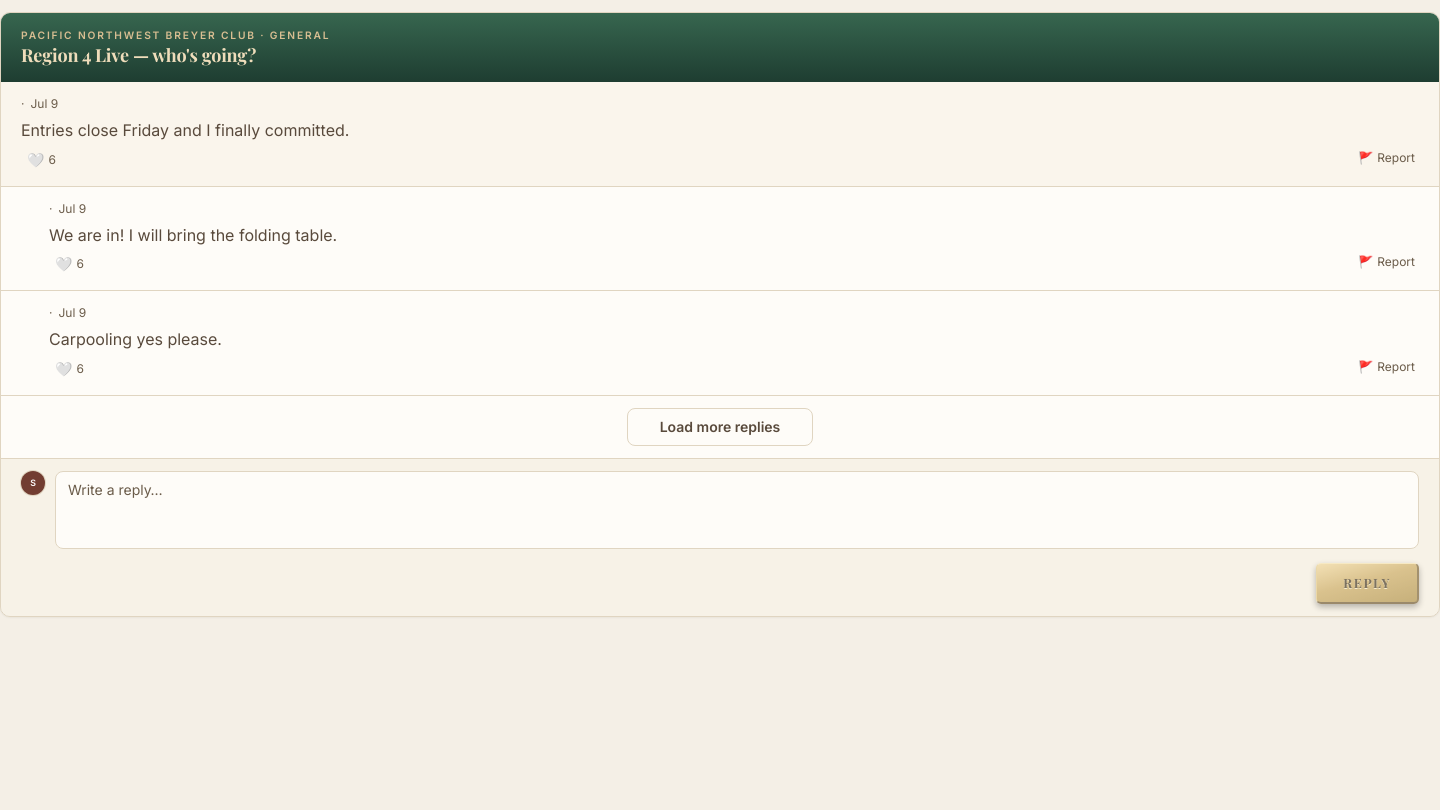
Test case: ThreadView › offers load-more when there are more replies
This screenshot has width=1440, height=810.
Click the button "Load more replies" at (720, 427), box x1=627 y1=408 x2=813 y2=446
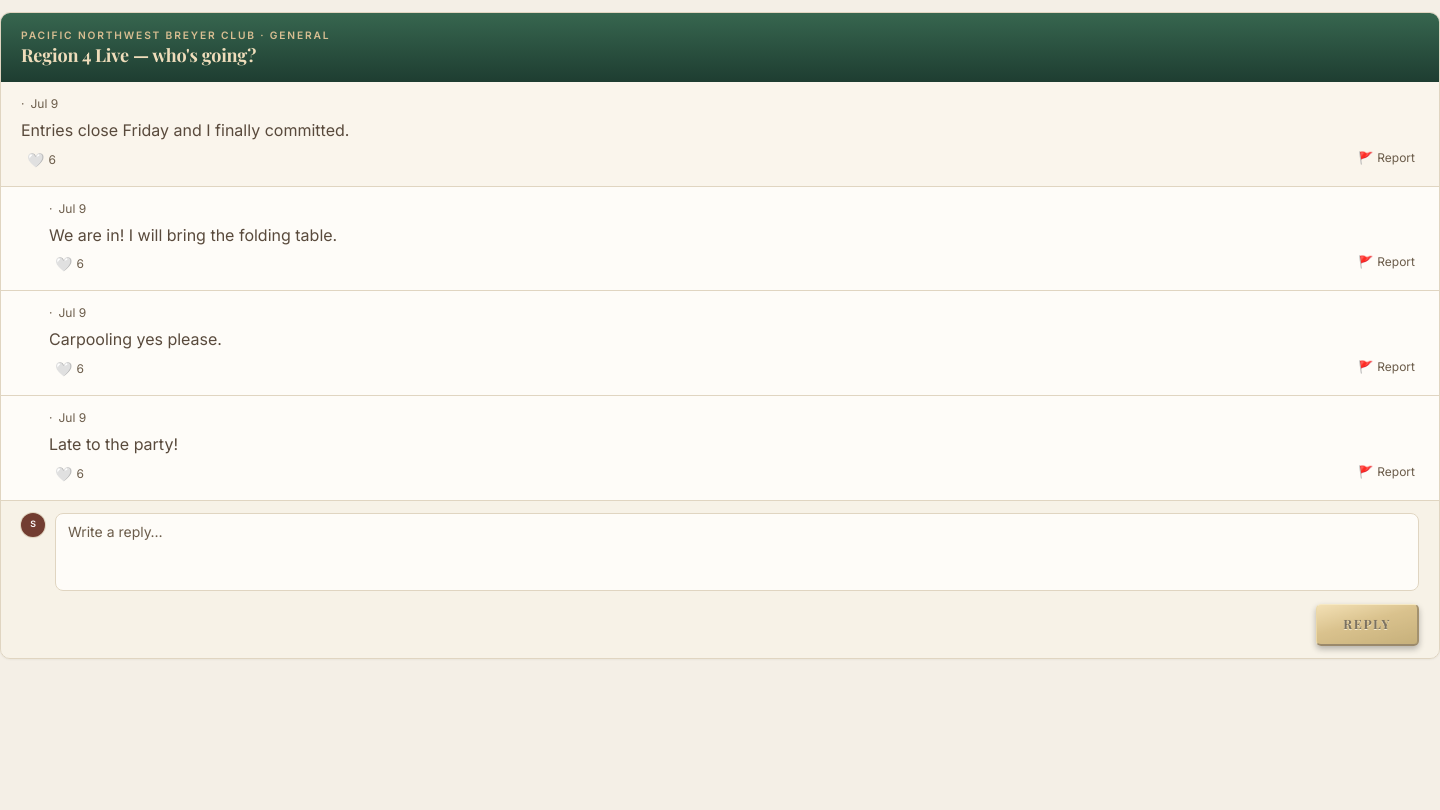
Result: the text "Late to the party!" is shown at x1=49 y1=434 x2=178 y2=454
